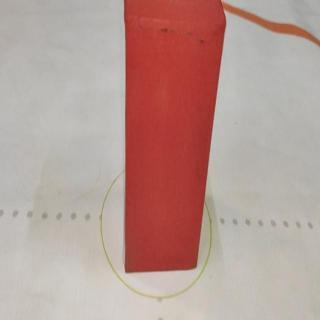redbox: (122, 0, 228, 272)
